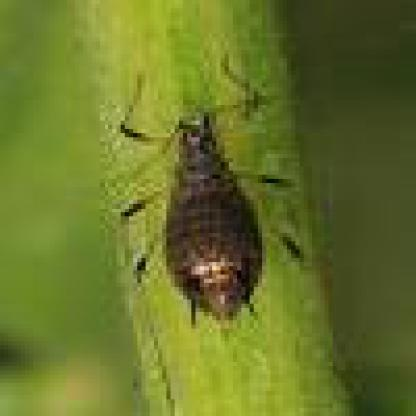uroleucon compositae: (163, 116, 268, 334)
